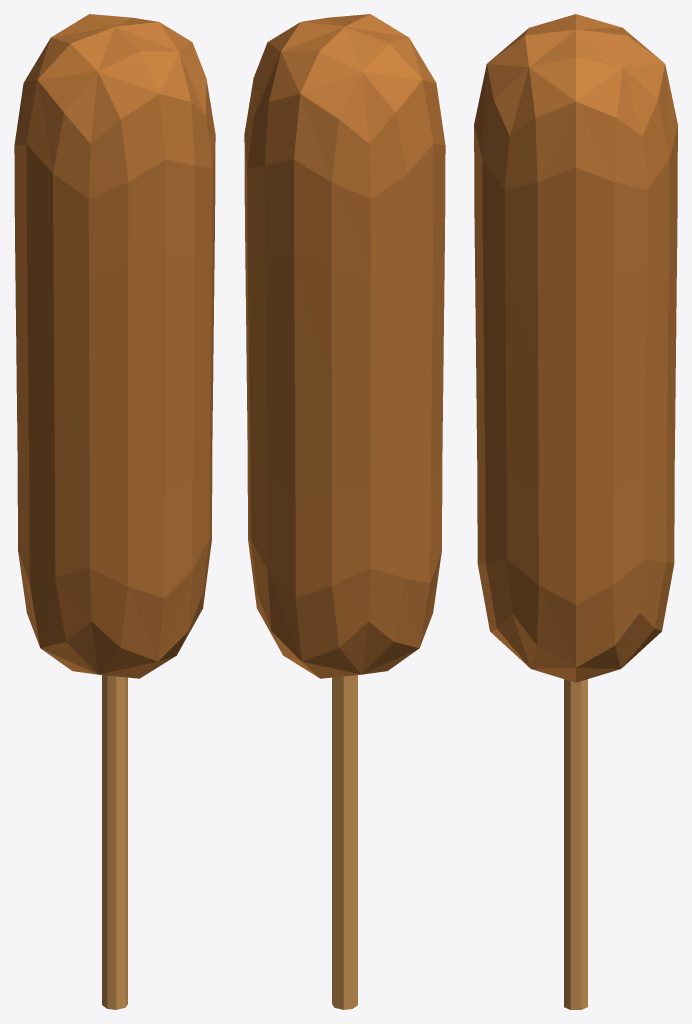
The model's file is Corndog.obj.
3 views of the same model, side by side, from view 1: azimuth 30°, elevation 25°; view 2: azimuth 150°, elevation 25°; view 3: azimuth 270°, elevation 25° (orthographic).
Parts seen in each view (by area): view 1: Corndog_Corndog, Corndog_LightYellow; view 2: Corndog_Corndog, Corndog_LightYellow; view 3: Corndog_Corndog, Corndog_LightYellow.
Boxes of the visible parts, box(x1,y1,x2,y2) form: Corndog_Corndog: box(14, 14, 215, 678); Corndog_LightYellow: box(102, 675, 127, 1009); Corndog_Corndog: box(244, 14, 445, 678); Corndog_LightYellow: box(332, 675, 357, 1009); Corndog_Corndog: box(474, 14, 677, 682); Corndog_LightYellow: box(564, 679, 587, 1009).
Bounding box in the file's own units: 0.2562 × 1.35 × 0.2562.
